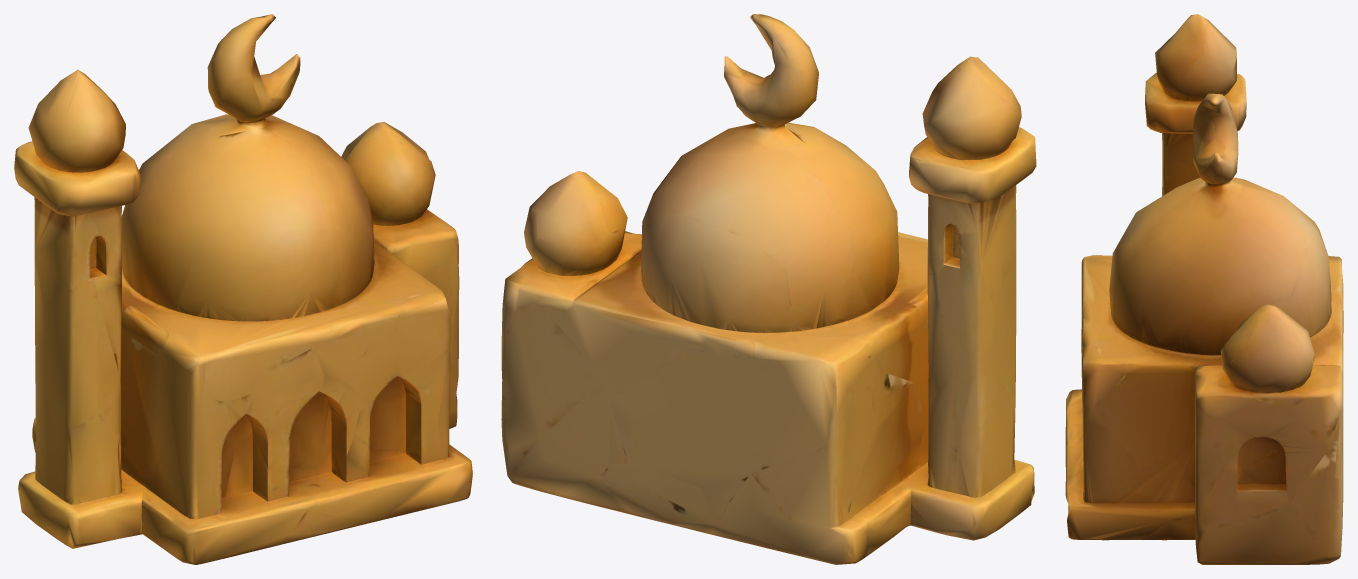
Rendered from mosque_pbr.glb.
3 views of the same model, side by side, from view 1: azimuth 30°, elevation 25°; view 2: azimuth 150°, elevation 25°; view 3: azimuth 270°, elevation 25° (orthographic). The views are drawn at different scales.
Visible parts, largest first — view 1: model; view 2: model; view 3: model.
Boxes of the visible parts, <box> form: model: <box>14,14,472,564</box>; model: <box>501,14,1036,564</box>; model: <box>1065,14,1343,564</box>.
Size of the model in its own units: 1.71 by 1.71 by 1.1.
Materials: 1 (1 with a texture image).
